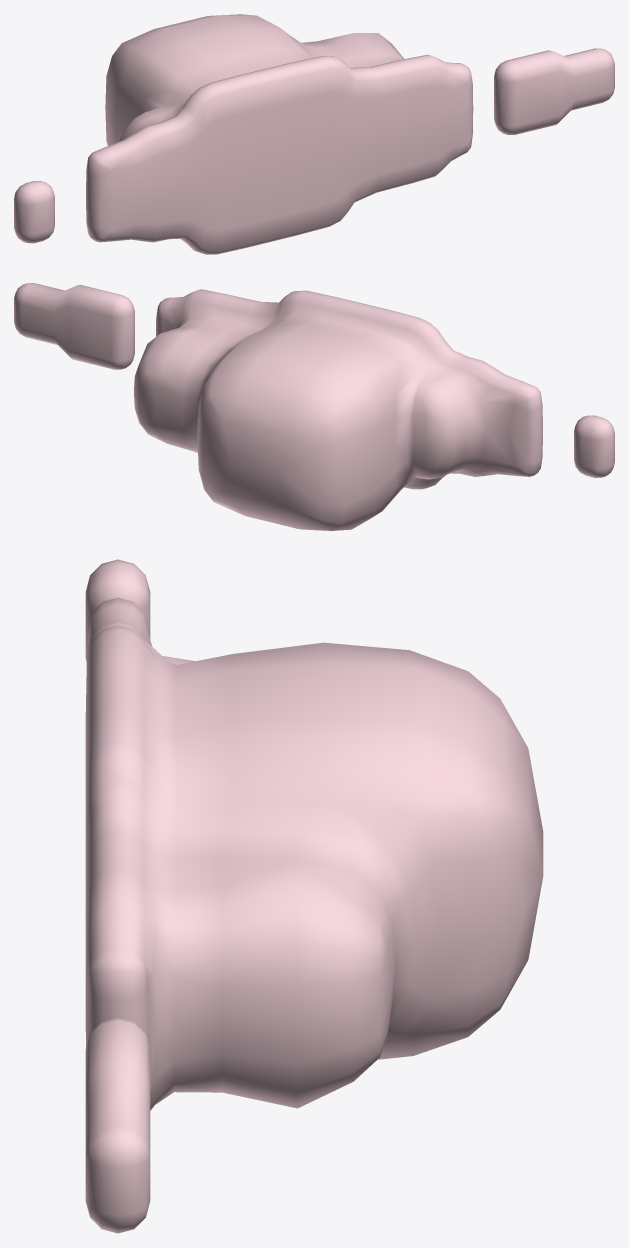
3 views of the same model, one above another, from view 1: azimuth 30°, elevation 25°; view 2: azimuth 150°, elevation 25°; view 3: azimuth 270°, elevation 25° (orthographic). The views are drawn at different scales.
Parts seen in each view (by area): view 1: Cloud__14_; view 2: Cloud__14_; view 3: Cloud__14_.
Boxes of the visible parts, box(x1,y1,x2,y2) form: Cloud__14_: box(14, 14, 614, 254); Cloud__14_: box(14, 283, 614, 530); Cloud__14_: box(85, 559, 543, 1233).
Size of the model in its own units: 855 by 234 by 284.
